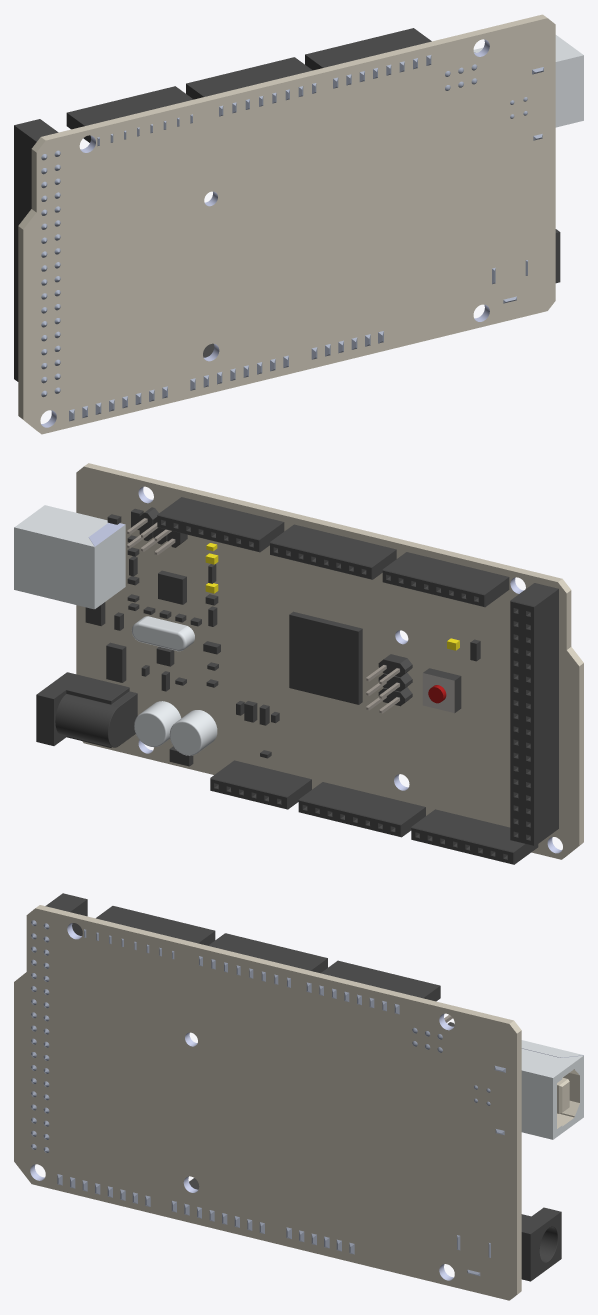
File: ArduinoMega.fbx
3 views of the same model, one above another, from view 1: azimuth 30°, elevation 25°; view 2: azimuth 150°, elevation 25°; view 3: azimuth 330°, elevation 25° (orthographic). The views are drawn at different scales.
Parts seen in each view (by area): view 1: ArduinoMega; view 2: ArduinoMega; view 3: ArduinoMega.
Boxes of the visible parts, left/top/right/bottom form: ArduinoMega: left=14, top=14, right=583, bottom=434; ArduinoMega: left=14, top=463, right=583, bottom=864; ArduinoMega: left=14, top=893, right=583, bottom=1300.
Bounding box in the file's own units: 10.8 × 5.34 × 1.3.
